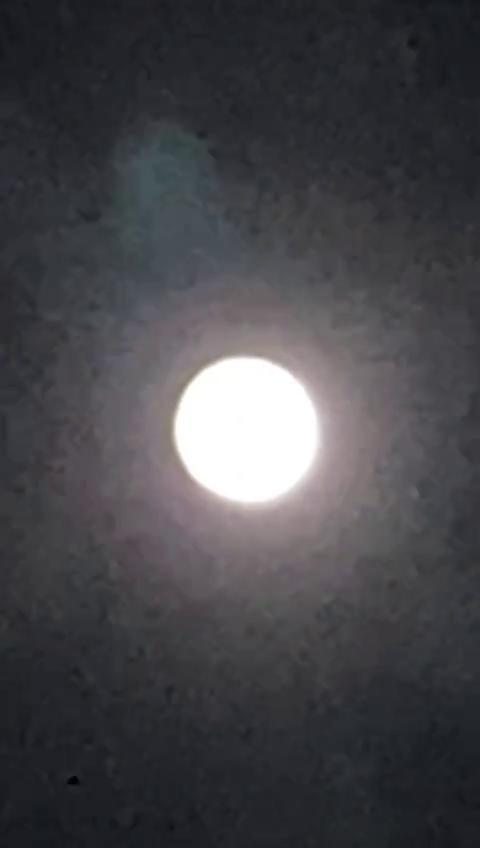moon: (176, 344, 347, 534)
